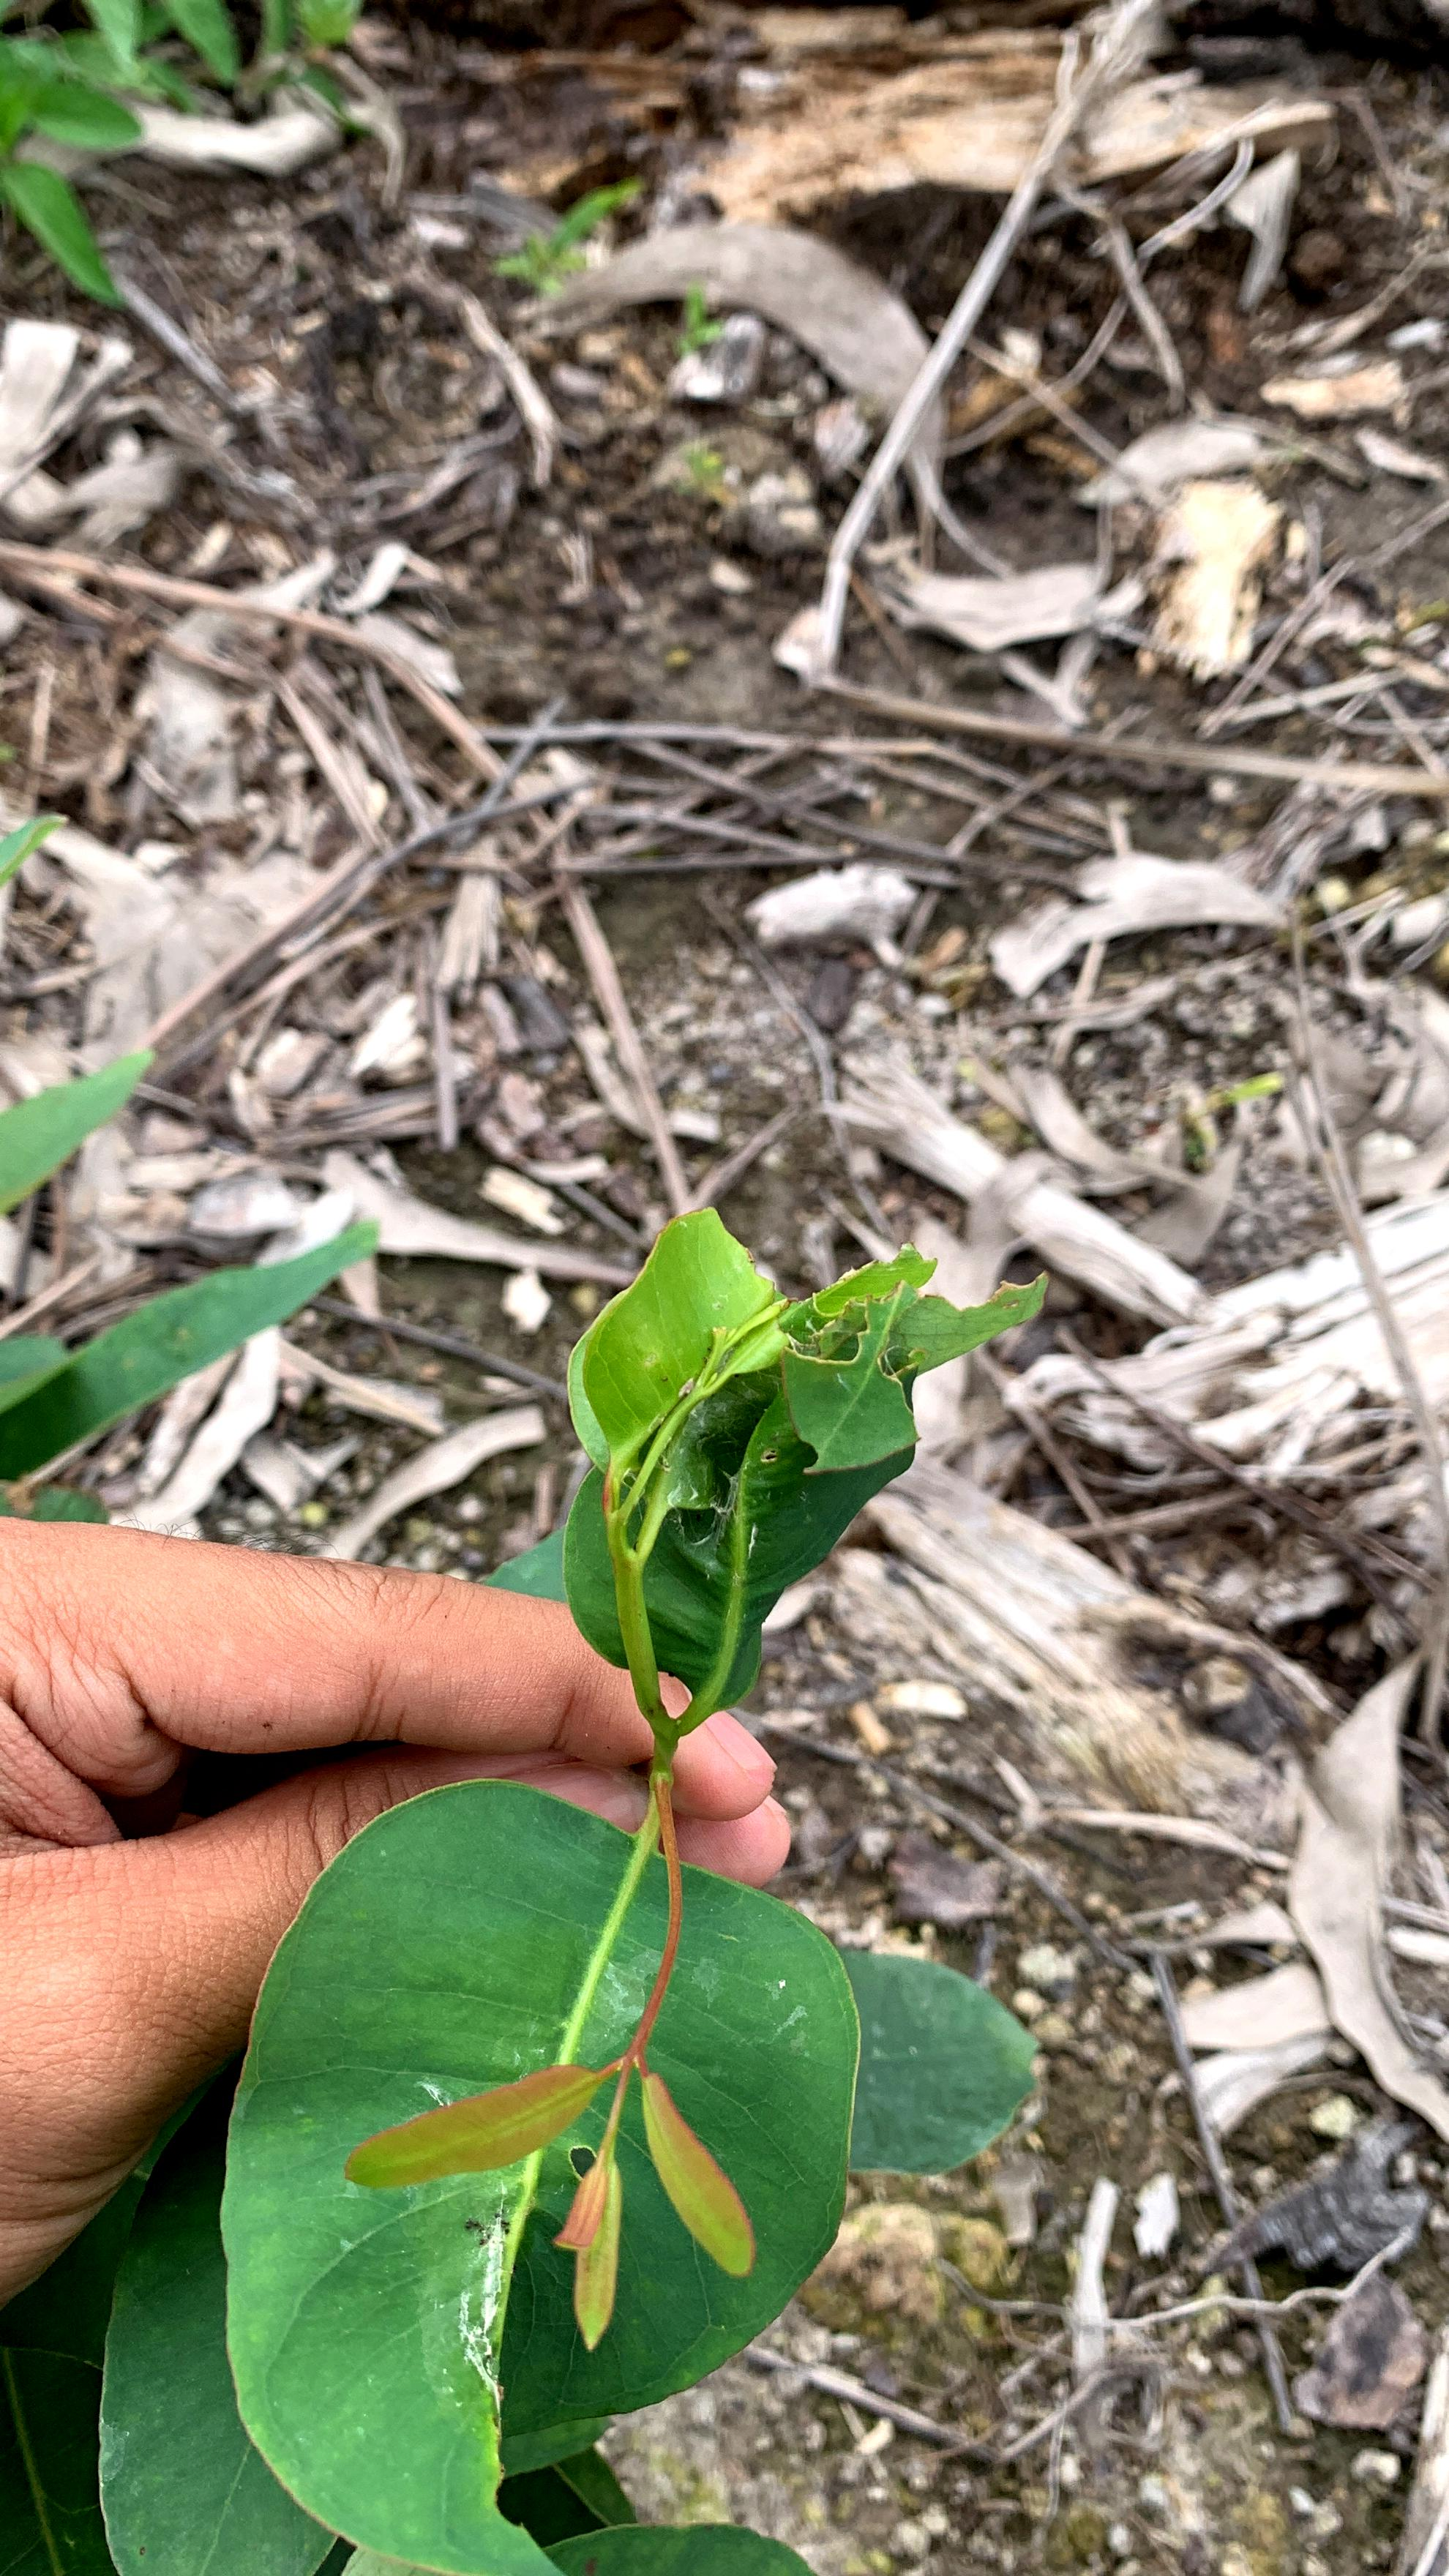Leaf Roller - Leaf: (453, 1194, 1026, 1746)
